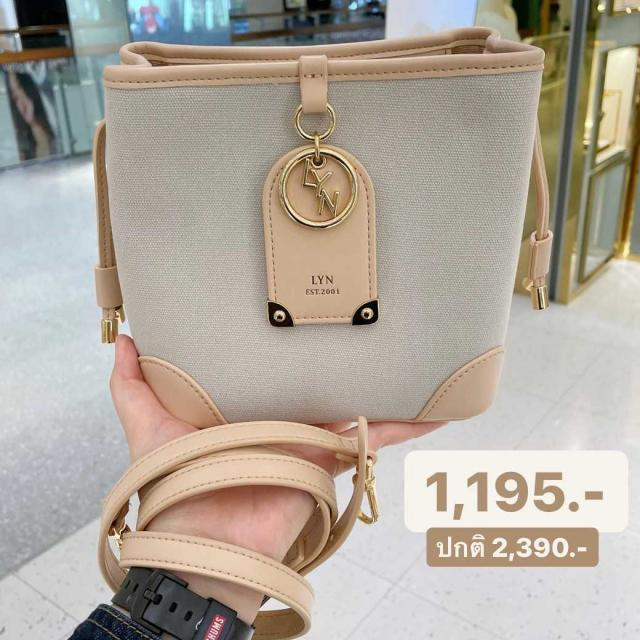Handbag: (89, 22, 563, 440)
